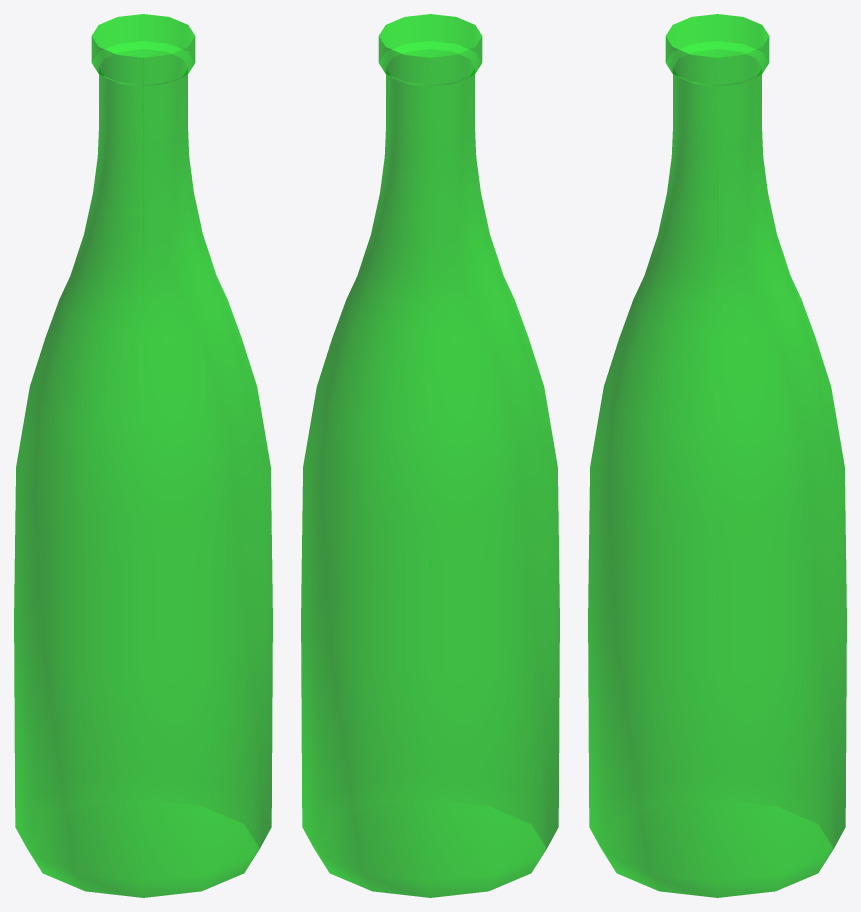
The model's file is Bottletext.fbx.
3 renders of one model, left to right at view 1: azimuth 30°, elevation 25°; view 2: azimuth 150°, elevation 25°; view 3: azimuth 270°, elevation 25°, orthographic.
Visible parts, largest first — view 1: Bottle; view 2: Bottle; view 3: Bottle.
Boxes of the visible parts, x1,y1,x2,y2 form: Bottle: (14,14,272,897); Bottle: (301,14,559,897); Bottle: (588,14,846,897).
Size of the model in its own units: 10.93 by 37.84 by 10.93.
